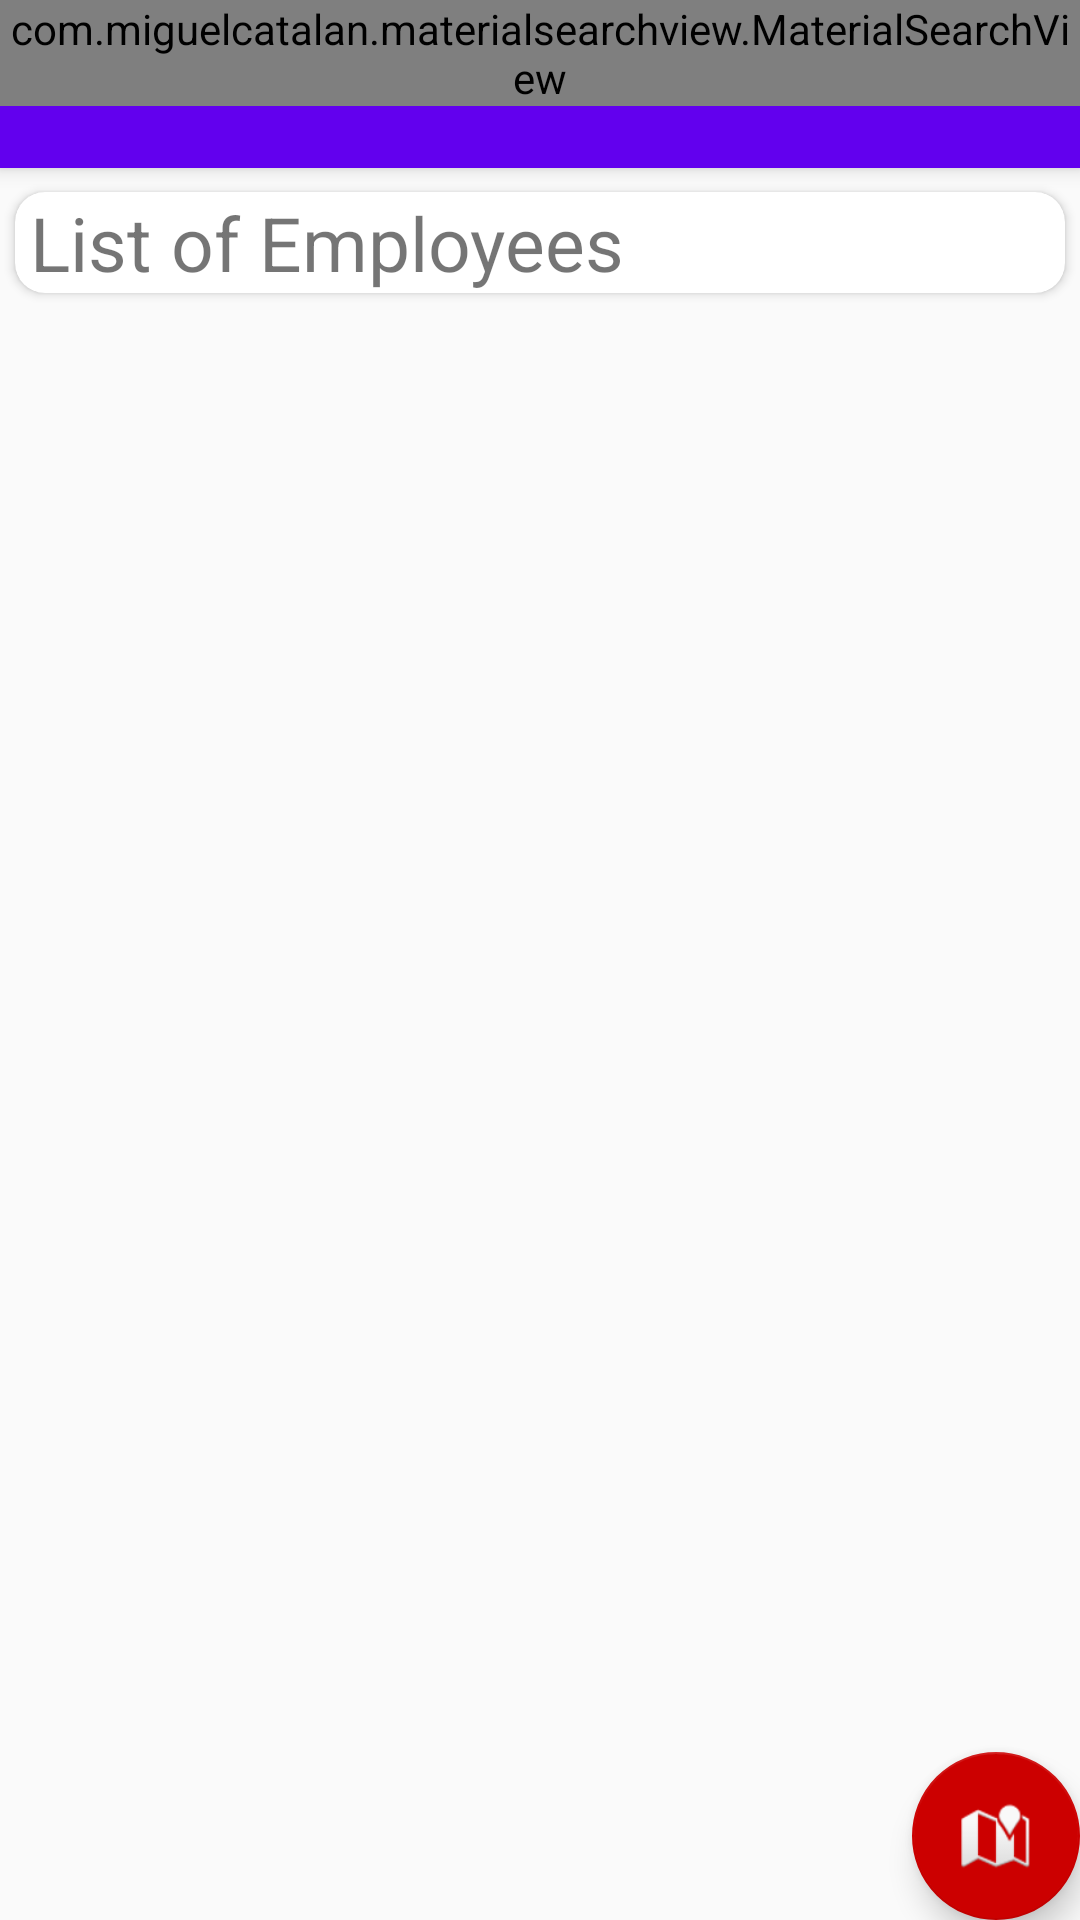

Named icons in this screenshot (1080×1920) and their bounding boxes, (x1, y1, x2, y2):
map: (912, 1752, 1080, 1920)
